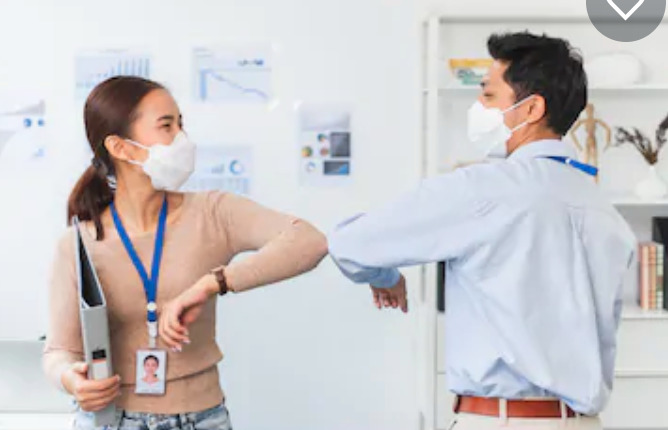Bad: (45, 29, 624, 425)
